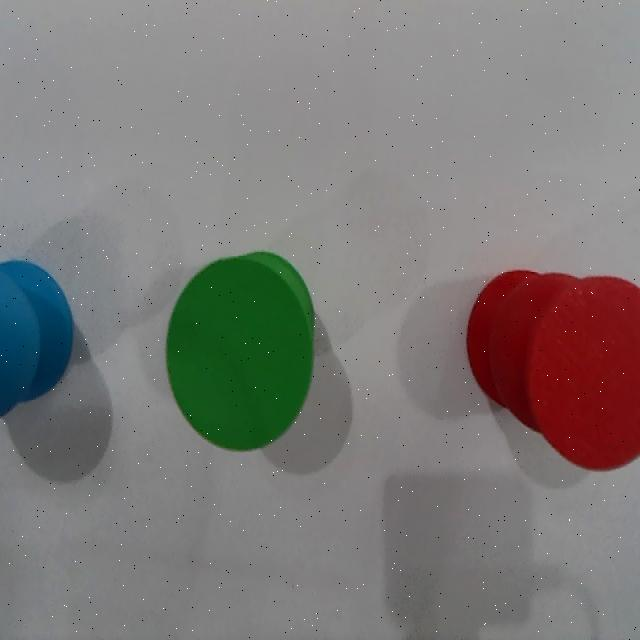g: (166, 257, 314, 451)
